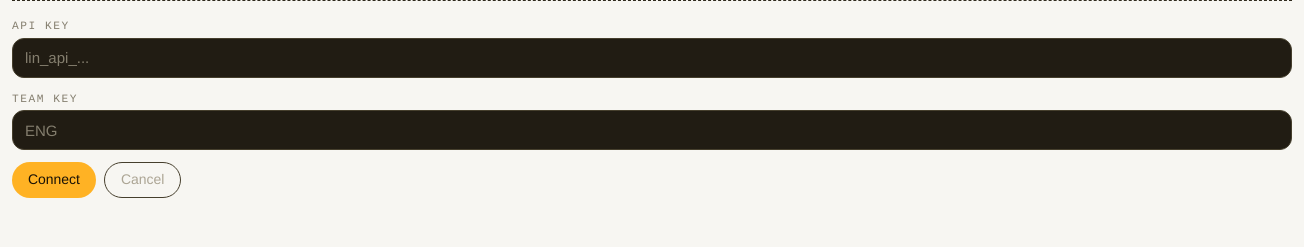
Test: ConnectionsPage safety boundaries › never submits a credential with an invalid Linear team target
Step 1. Type "1-BAD" into the field labelled "Team key" → (652, 130), box left=12, top=110, right=1292, bottom=150
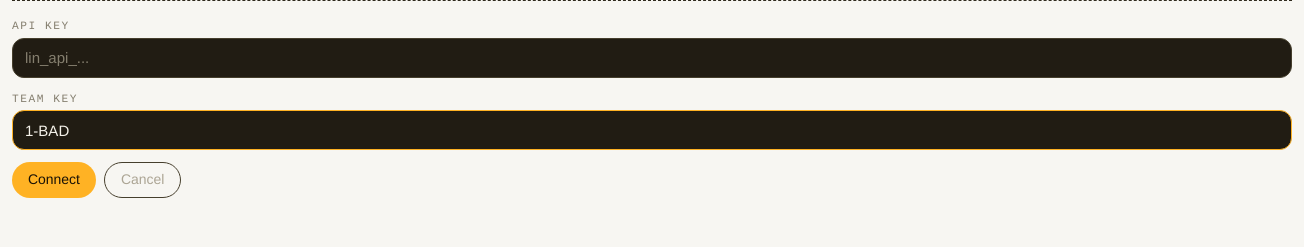
Step 2. Type "lin_api_must_not_send" into the password field labelled "API key" → (652, 58), box left=12, top=38, right=1292, bottom=78
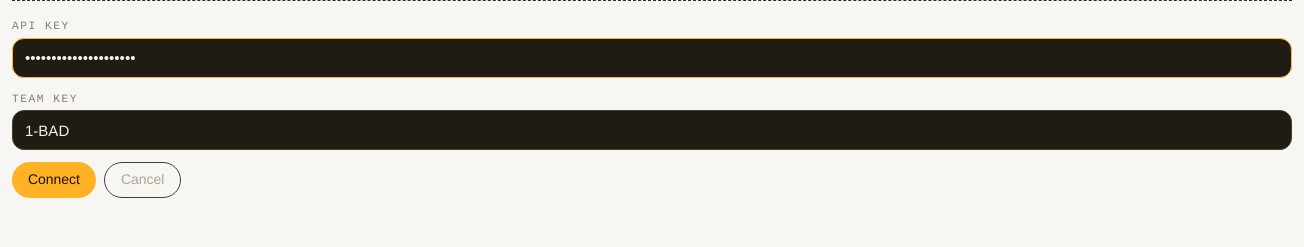
Step 3. Submit the form
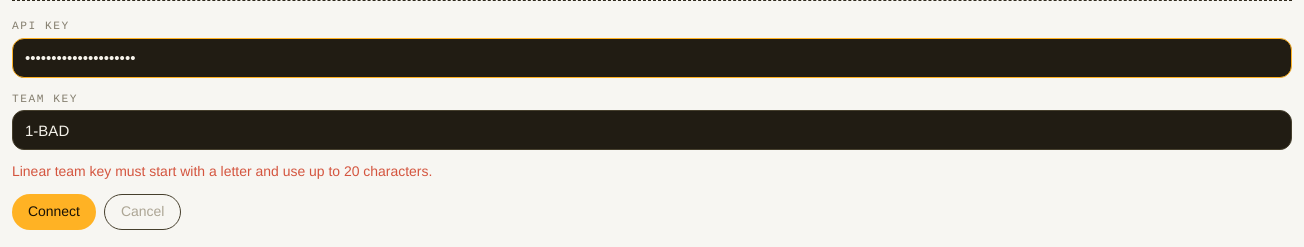
Now the message reads "Linear team key must start with a letter and use up to 20 characters.", box left=12, top=163, right=432, bottom=179
